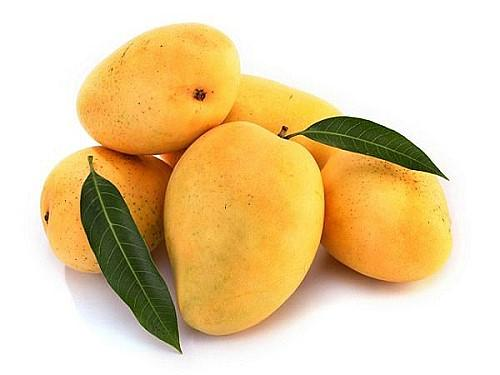mango: (164, 119, 328, 342), (72, 19, 246, 147), (325, 145, 456, 298)
